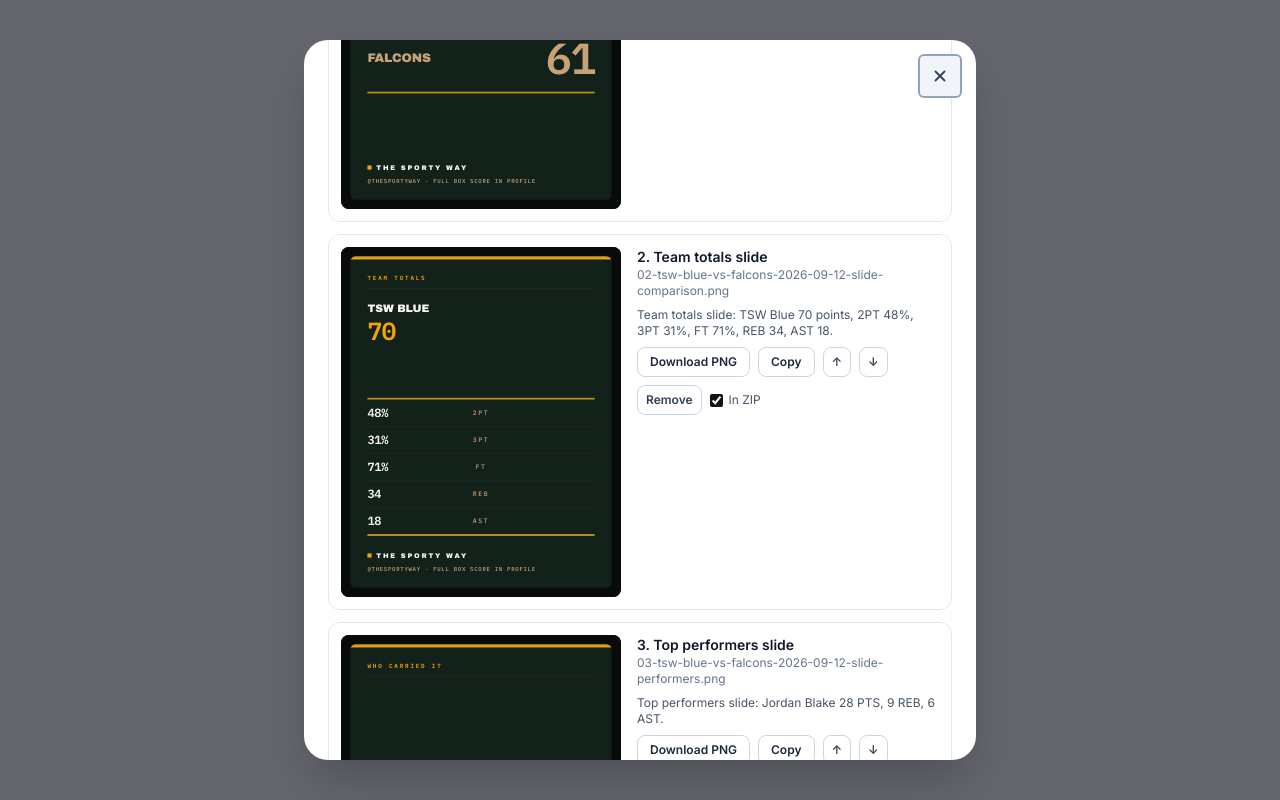
Scenario: GameSocialKitModal › removes a slide and closes the gap in the numbering
(page scrolled)
Click the button with aria-label "Remove Team totals slide": click(669, 400) [637,385,702,415]
(page scrolled)
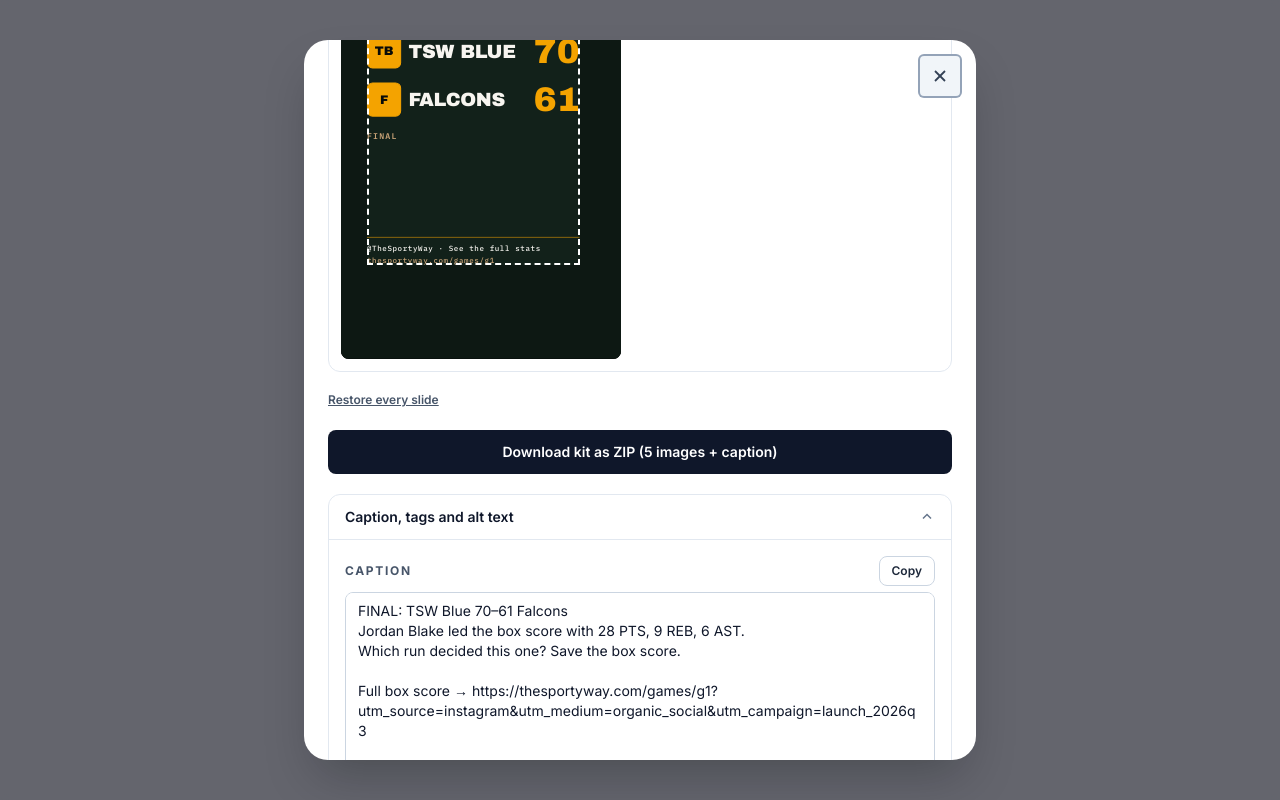
Check: the text "Team totals slide" is gone
Check: the button "Restore every slide" is shown, box [328,392,439,408]
